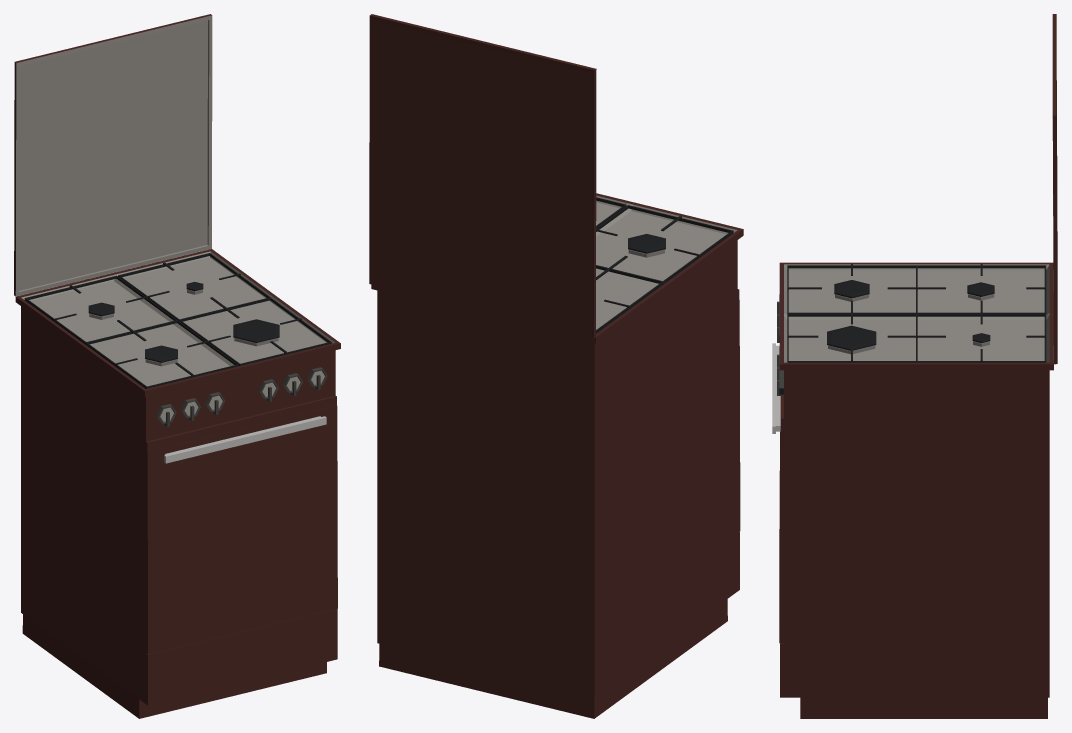
File: kitchenstove_01_C.gltf
The picture shows the model from 3 angles, left to right: view 1: azimuth 30°, elevation 25°; view 2: azimuth 150°, elevation 25°; view 3: azimuth 270°, elevation 25°; orthographic projection. The views are drawn at different scales.
Parts seen in each view (by area): view 1: kitchenstove_01_C.001, coverforgasstove_01_C, kitchenstove_01_C, pulloutshelfforgasstove_01_C; view 2: kitchenstove_01_C.001, coverforgasstove_01_C, kitchenstove_01_C; view 3: kitchenstove_01_C.001, coverforgasstove_01_C, kitchenstove_01_C.
Boxes of the visible parts, x1,y1,x2,y2 form: kitchenstove_01_C.001: (15, 249, 340, 718); coverforgasstove_01_C: (14, 14, 212, 296); kitchenstove_01_C: (145, 405, 337, 654); pulloutshelfforgasstove_01_C: (146, 608, 337, 705); kitchenstove_01_C.001: (371, 193, 743, 718); coverforgasstove_01_C: (369, 14, 596, 338); kitchenstove_01_C: (737, 300, 740, 532); kitchenstove_01_C.001: (779, 262, 1053, 718); coverforgasstove_01_C: (1052, 14, 1057, 364); kitchenstove_01_C: (772, 343, 783, 643).
Bounding box in the file's own units: 0.5166 × 1.43 × 0.6127.
1 material, 1 textured.
